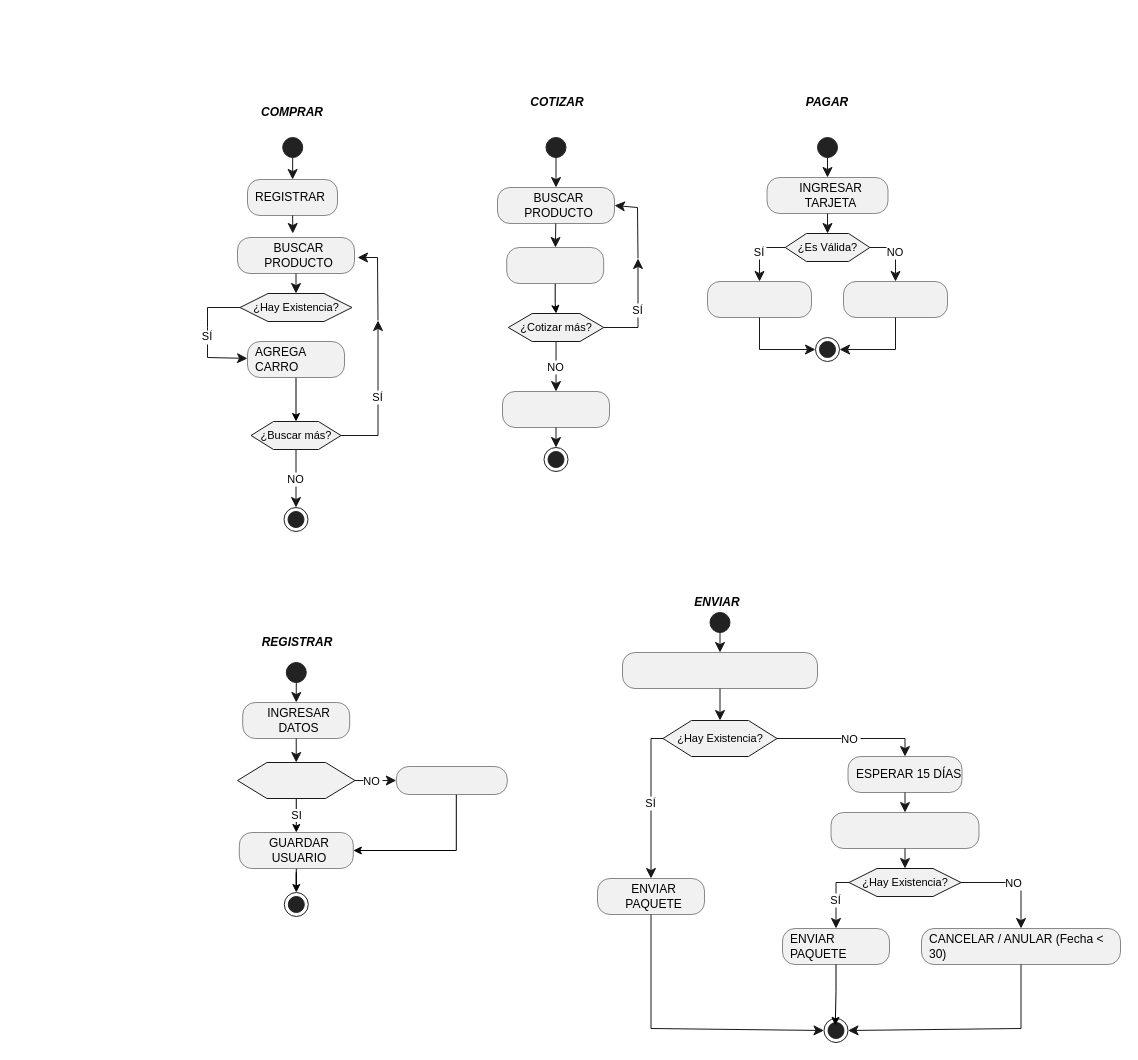
Image size: 1138x1060. Some labels were removed from this diagram. Here are the shapes that lost their labels. From the top down, the box of each, then its label:
(506, 247, 604, 283): COTIZAR ÍTEM
(707, 281, 811, 317): PROCESAR PAGO
(843, 281, 947, 317): RECHAZAR PAGO
(502, 391, 609, 427): MOSTRAR TOTAL
(622, 652, 817, 688): VERIFICAR EXISTENCIA DESPACHO
(236, 762, 355, 798): ¿Datos Completos?
(396, 766, 507, 794): SOLICITAR DATOS
(830, 812, 979, 848): VERIFICAR NUEVAMENTE
